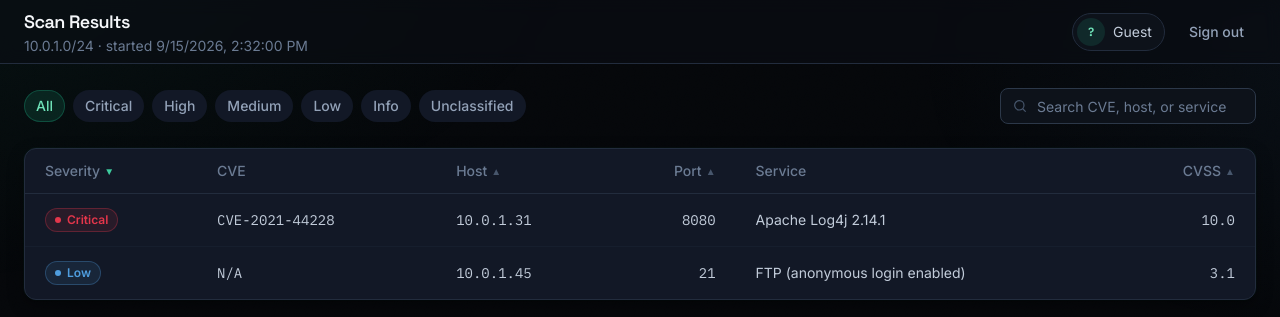
ScanResults › searches by CVE, host, or service
expect the text "CVE-2021-44228" is shown: met, box [217,211,335,229]
In the search field with placeholder "Search CVE, host, or service": {"x": 1128, "y": 106} [1000,88,1256,124], type "ftp"
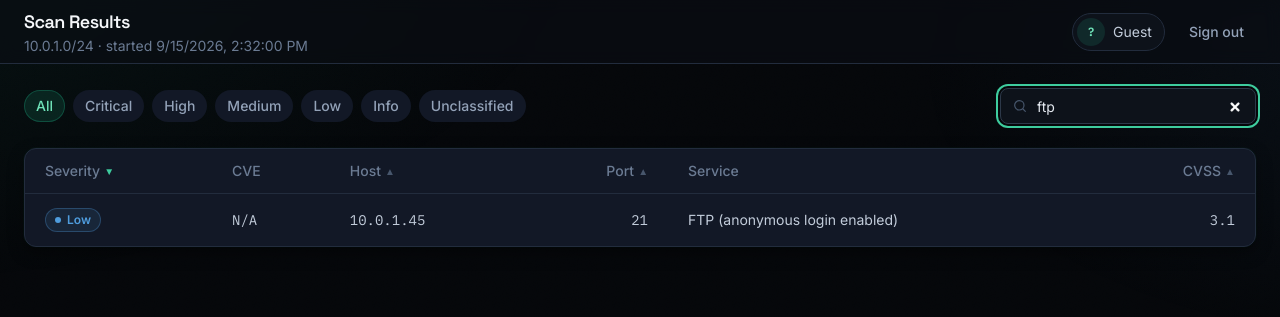
expect the text "N/A" is shown: met, box [232,211,257,229]
expect the text "CVE-2021-44228" is gone: met
